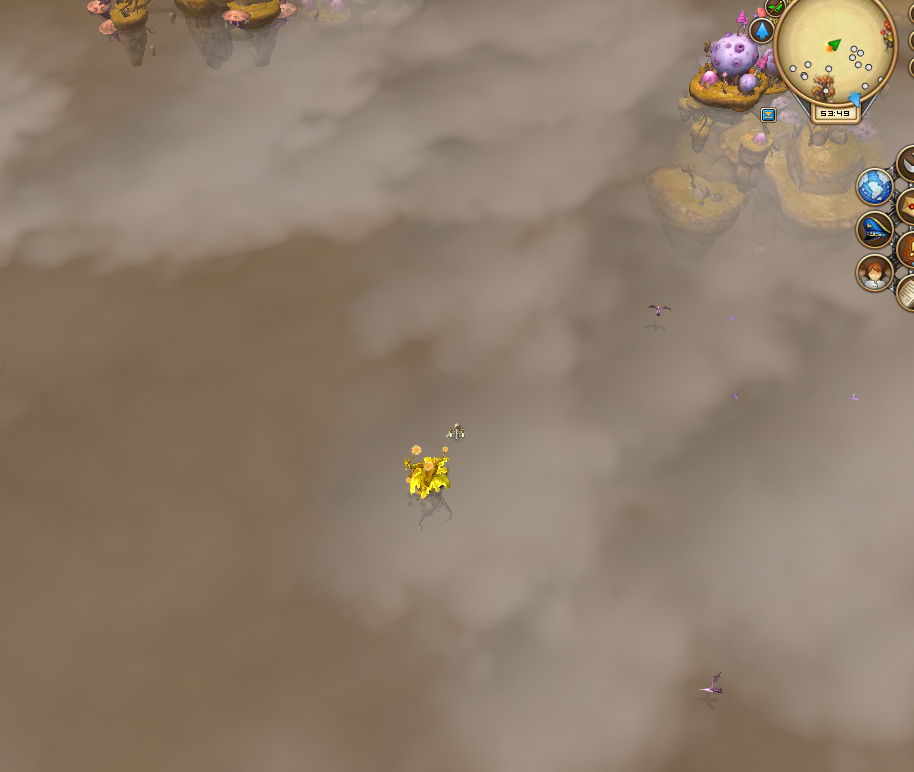dandelion-full: (396, 440, 458, 522)
